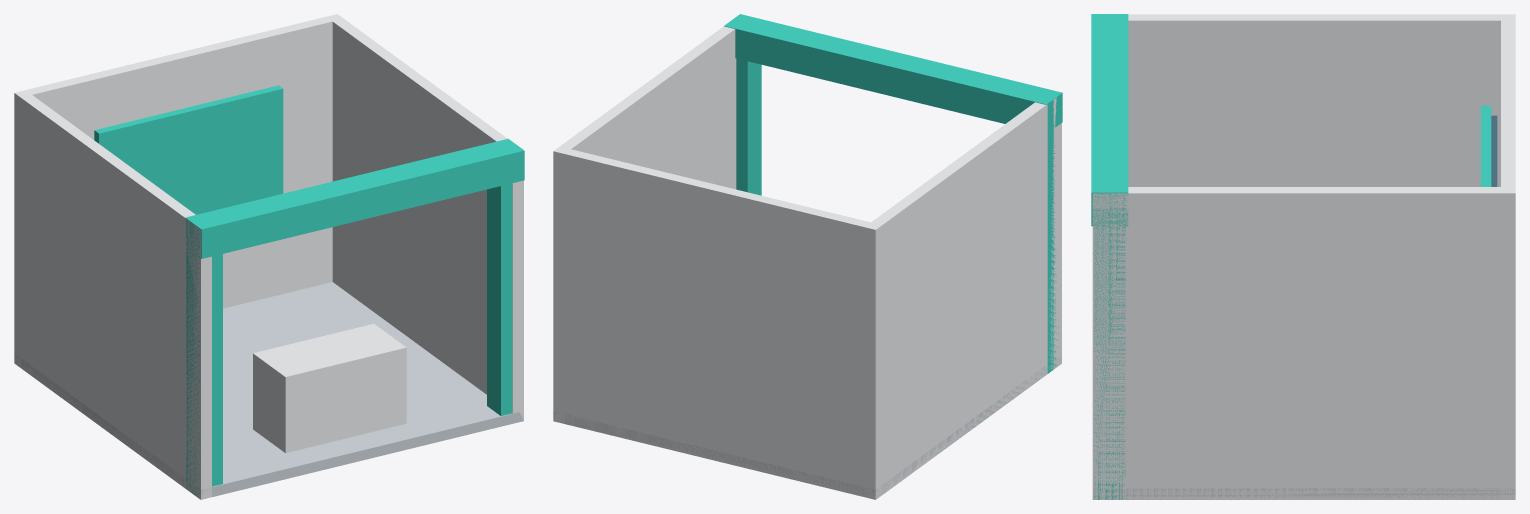
3 renders of one model, left to right at view 1: azimuth 30°, elevation 25°; view 2: azimuth 150°, elevation 25°; view 3: azimuth 270°, elevation 25°, orthographic. The views are drawn at different scales.
Visible parts, largest first — view 1: Exhibition Booth Concept; view 2: Exhibition Booth Concept; view 3: Exhibition Booth Concept.
Part boxes in pixels (x1,y1,x2,y2): Exhibition Booth Concept: [14, 14, 524, 499]; Exhibition Booth Concept: [553, 14, 1062, 499]; Exhibition Booth Concept: [1091, 14, 1515, 499].
Size of the model in its own units: 4 by 3.2 by 4.02.
